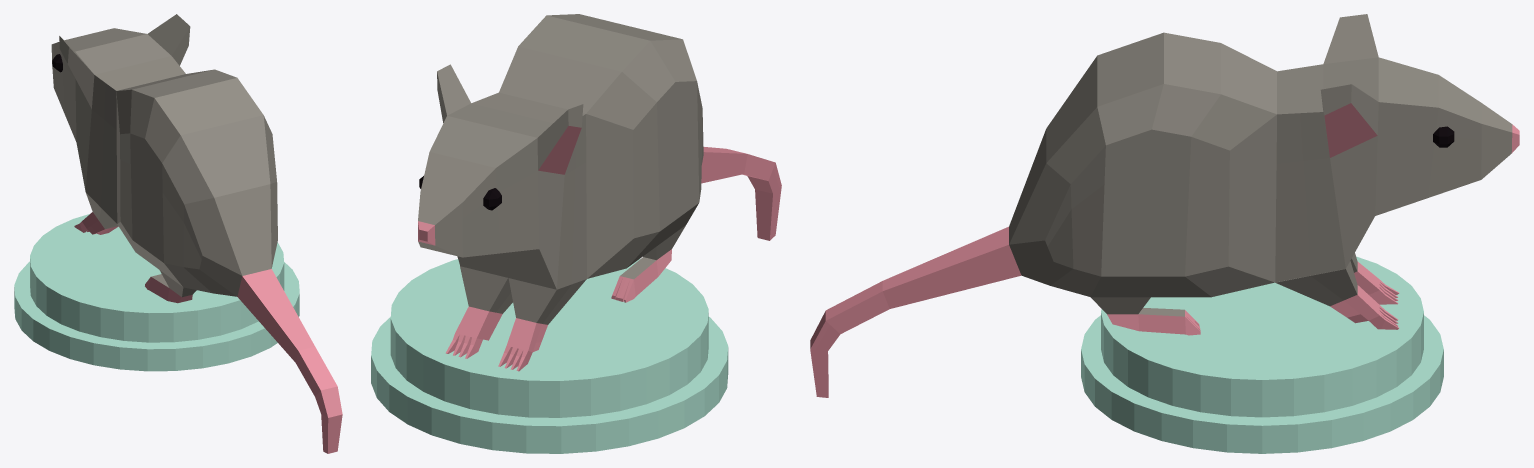
The model's file is Rat.fbx.
3 views of the same model, side by side, from view 1: azimuth 30°, elevation 25°; view 2: azimuth 150°, elevation 25°; view 3: azimuth 270°, elevation 25° (orthographic). The views are drawn at different scales.
Visible parts, largest first — view 1: Circle; view 2: Circle; view 3: Circle.
Boxes of the visible parts, x1,y1,x2,y2 form: Circle: (14, 14, 342, 453); Circle: (371, 14, 781, 453); Circle: (810, 14, 1519, 453).
Size of the model in its own units: 597 by 629 by 1168.
